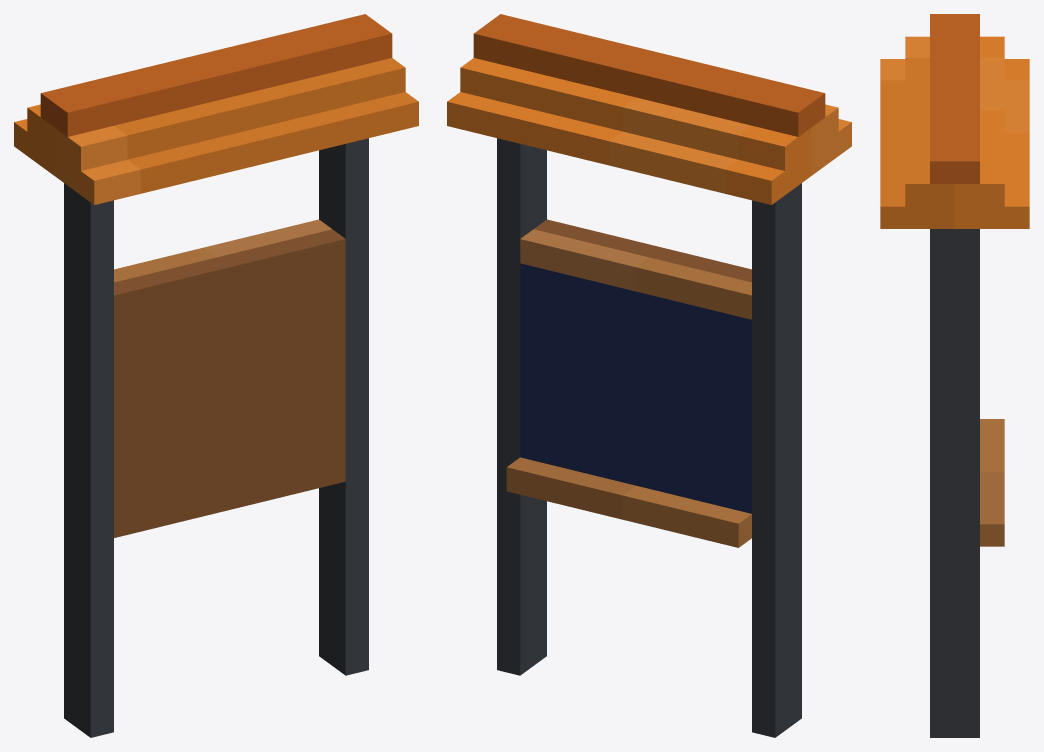
The model's file is noticeboard.glb.
The picture shows the model from 3 angles, left to right: view 1: azimuth 30°, elevation 25°; view 2: azimuth 150°, elevation 25°; view 3: azimuth 270°, elevation 25°; orthographic projection. The views are drawn at different scales.
Parts seen in each view (by area): view 1: board; view 2: board; view 3: board.
Boxes of the visible parts, left/top/right/bottom form: board: left=14, top=14, right=418, bottom=737; board: left=447, top=14, right=851, bottom=737; board: left=880, top=14, right=1029, bottom=737.
Bounding box in the file's own units: 1.4 × 2.6 × 0.6.
